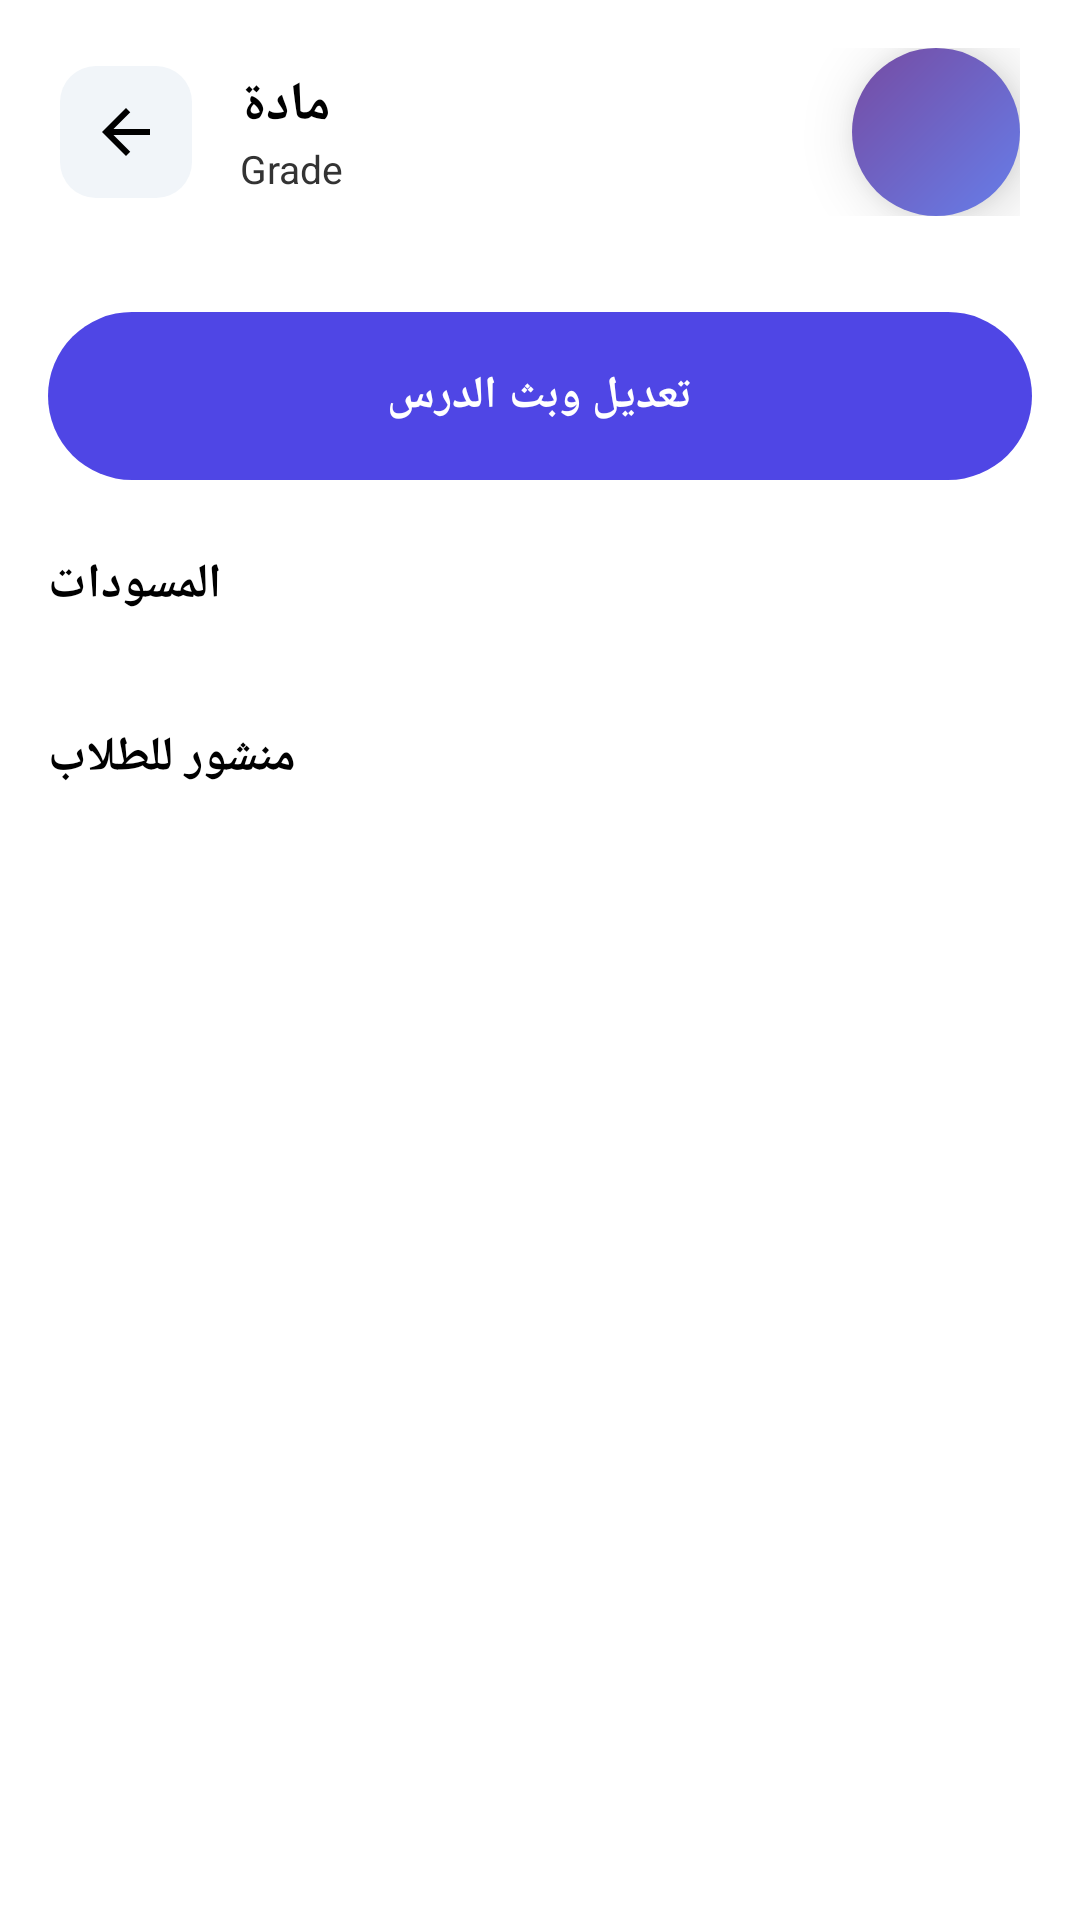

Icon click points for this 1080px x 1920px phone screenshot, format (x,y):
arrow back: (126,132)
